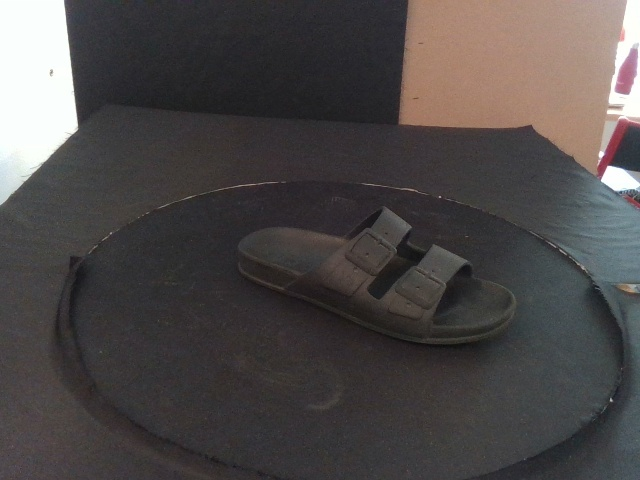shoe: (236, 206, 515, 346)
